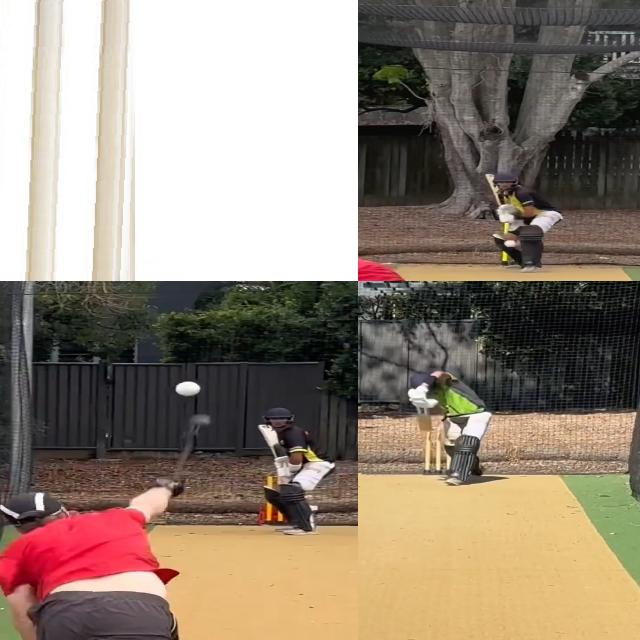Cricket ball: (174, 379, 202, 399), (503, 237, 521, 251)
Stumps: (0, 0, 142, 281), (425, 428, 451, 476)
